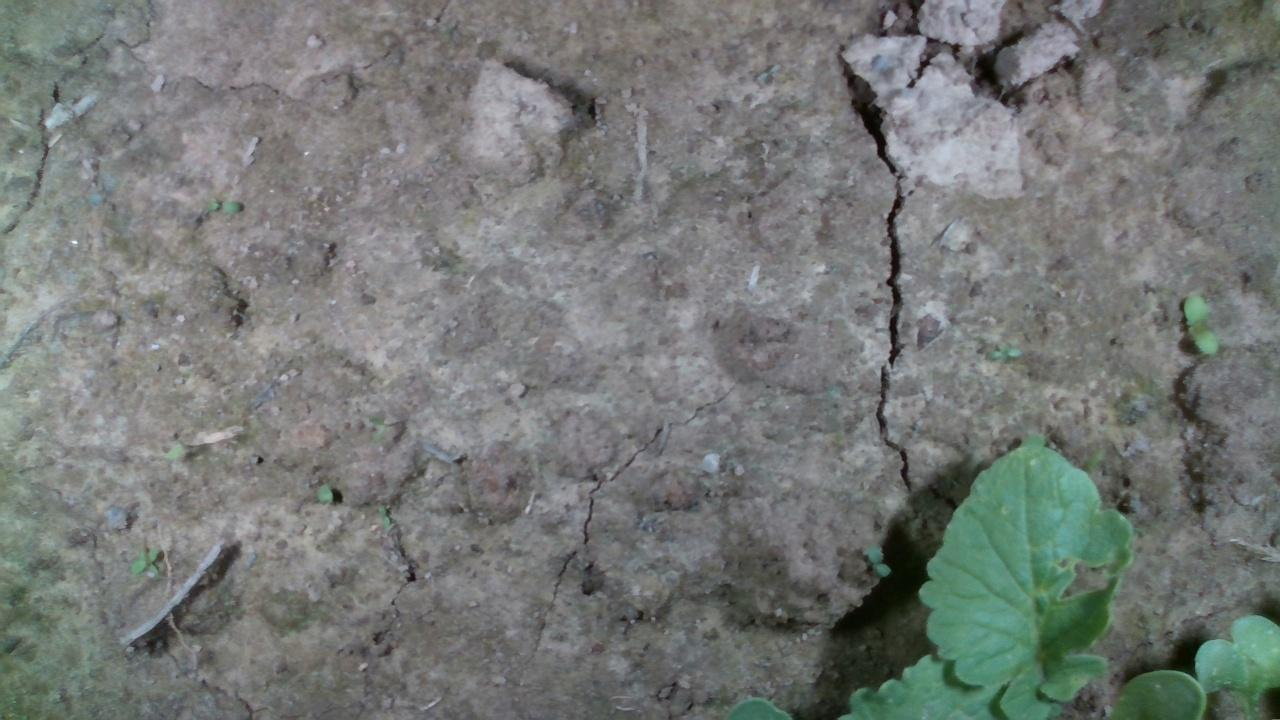weed: (1180, 291, 1218, 356), (982, 340, 1021, 364), (199, 198, 245, 215)
